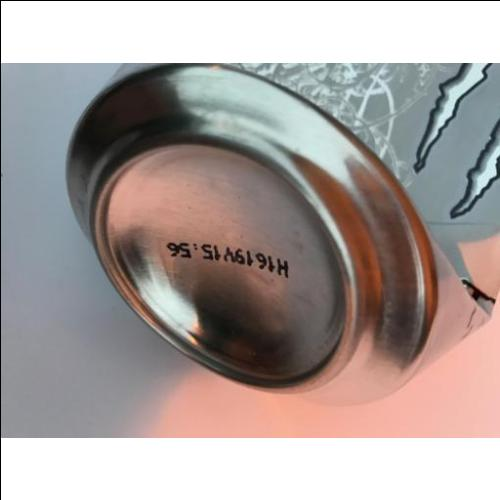metal: (69, 64, 499, 402)
